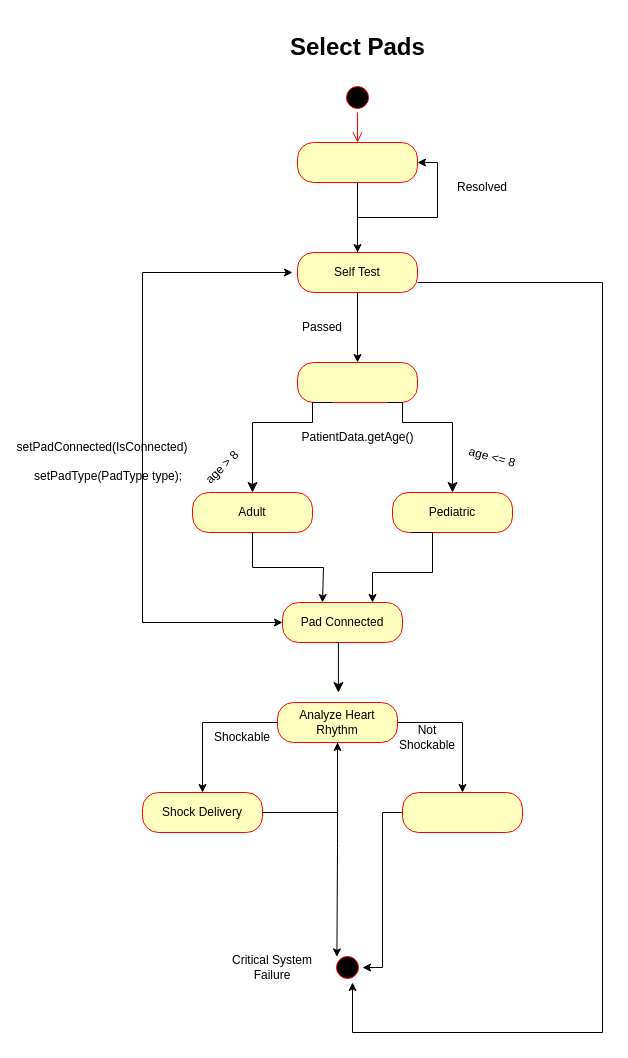
This 628x1058 diagram has some shape labels left out. Here are the shapes that lost their labels. From the top down, the centre of each, then its label:
At point (357, 162): "Power On".
At point (357, 382): "Select Pad".
At point (462, 812): "Do CPR".
